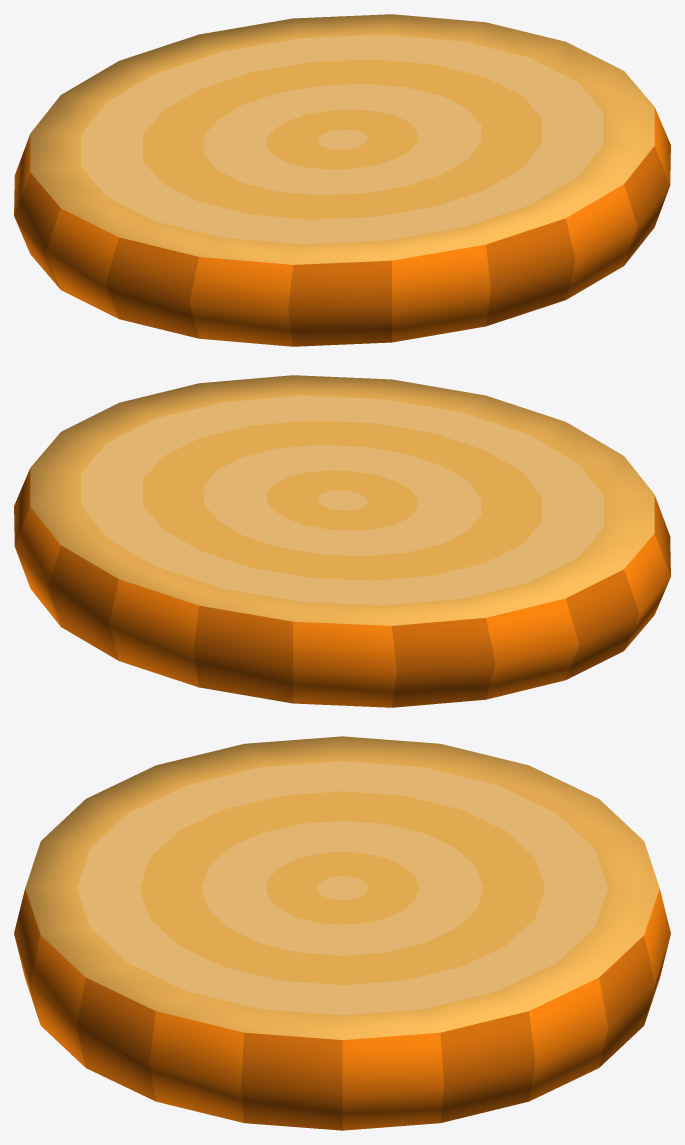
File: Onion_white_slice_Hotdog.fbx
The picture shows the model from 3 angles, top to bottom: view 1: azimuth 30°, elevation 25°; view 2: azimuth 150°, elevation 25°; view 3: azimuth 270°, elevation 25°; orthographic projection. The views are drawn at different scales.
Visible parts, largest first — view 1: Onion_white_slice_Hotdog; view 2: Onion_white_slice_Hotdog; view 3: Onion_white_slice_Hotdog.
Part boxes in pixels (<box>): Onion_white_slice_Hotdog: <box>14,14,670,346</box>; Onion_white_slice_Hotdog: <box>14,375,670,707</box>; Onion_white_slice_Hotdog: <box>14,736,670,1130</box>.
Size of the model in its own units: 89.78 by 77.75 by 11.82.
